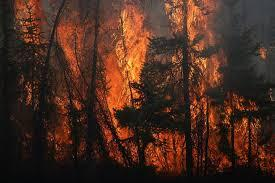fire: (12, 1, 273, 172)
